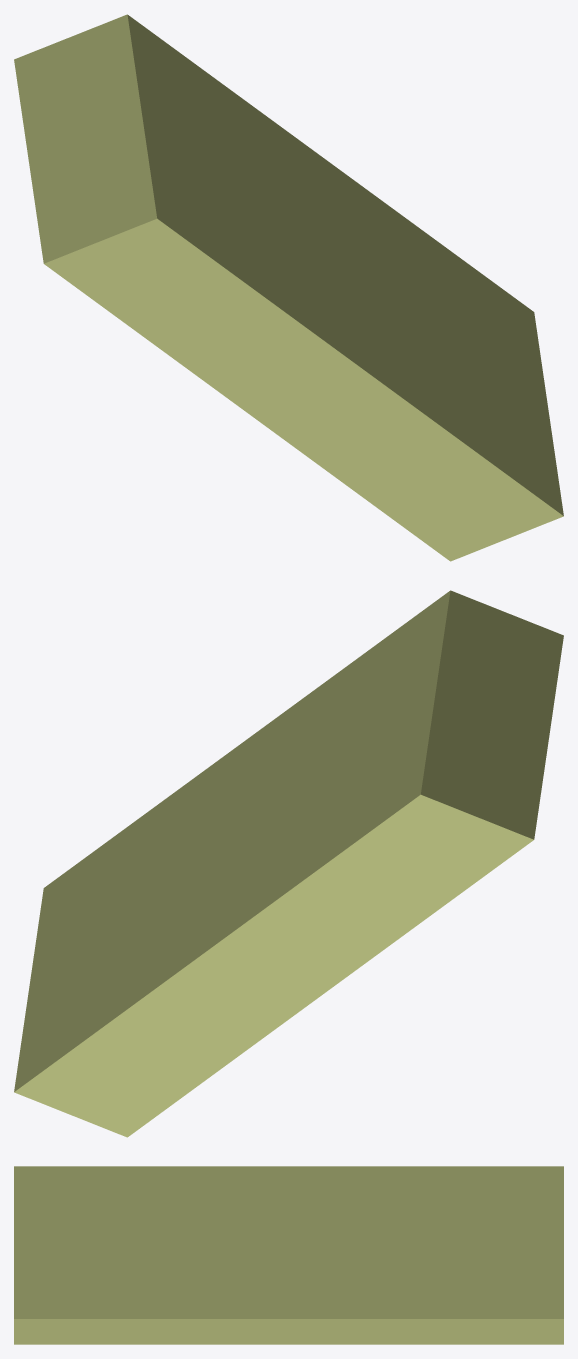
The picture shows the model from 3 angles, top to bottom: view 1: azimuth 30°, elevation 25°; view 2: azimuth 150°, elevation 25°; view 3: azimuth 270°, elevation 25°; orthographic projection. The views are drawn at different scales.
Parts seen in each view (by area): view 1: 0_1_3_2_1_1_1_0_2_3_0; view 2: 0_1_3_2_1_1_1_0_2_3_0; view 3: 0_1_3_2_1_1_1_0_2_3_0.
Part boxes in pixels (x1,y1,x2,y2): 0_1_3_2_1_1_1_0_2_3_0: (14, 14, 563, 561); 0_1_3_2_1_1_1_0_2_3_0: (14, 590, 563, 1137); 0_1_3_2_1_1_1_0_2_3_0: (14, 1166, 563, 1344).
Bounding box in the file's own units: 1.83 × 2.8 × 9.
